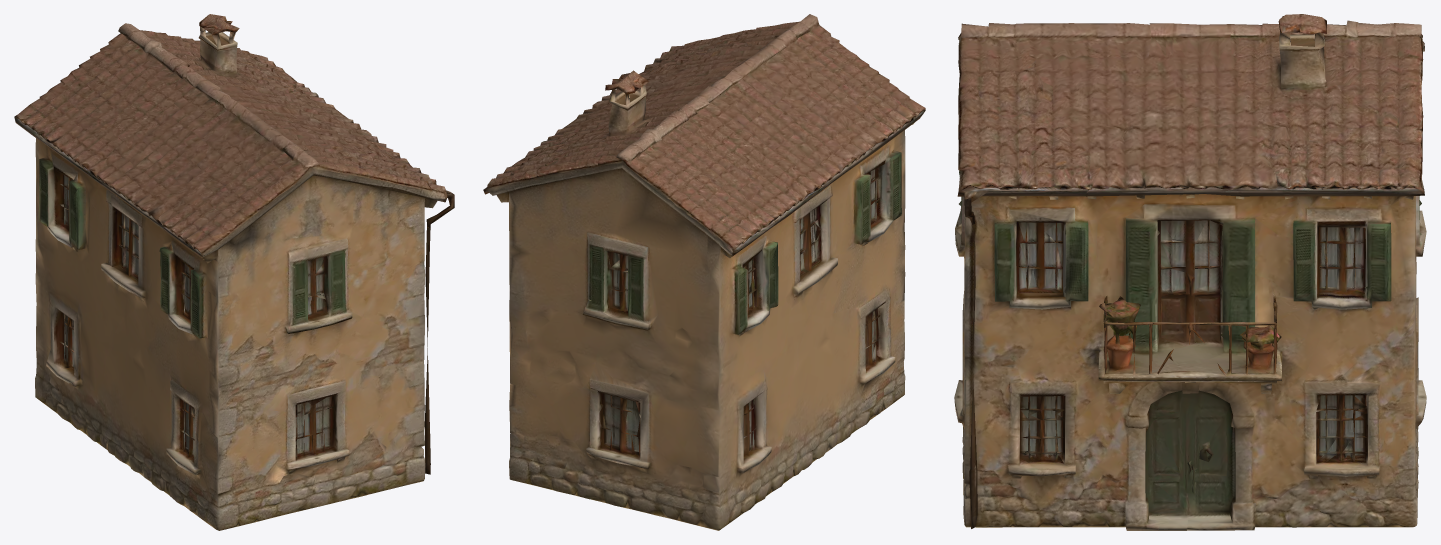
The model's file is house-ochre.glb.
3 views of the same model, side by side, from view 1: azimuth 30°, elevation 25°; view 2: azimuth 150°, elevation 25°; view 3: azimuth 270°, elevation 25° (orthographic). The views are drawn at different scales.
Visible parts, largest first — view 1: tripo_node_723d8236-78c2-47cd-aca2-4f931e2b45c5; view 2: tripo_node_723d8236-78c2-47cd-aca2-4f931e2b45c5; view 3: tripo_node_723d8236-78c2-47cd-aca2-4f931e2b45c5.
Boxes of the visible parts, bbox=[...] form: tripo_node_723d8236-78c2-47cd-aca2-4f931e2b45c5: bbox=[14, 14, 454, 530]; tripo_node_723d8236-78c2-47cd-aca2-4f931e2b45c5: bbox=[483, 14, 925, 530]; tripo_node_723d8236-78c2-47cd-aca2-4f931e2b45c5: bbox=[954, 14, 1426, 530].
Size of the model in its own units: 0.7518 by 1 by 0.9084.
1 material, 1 textured.
